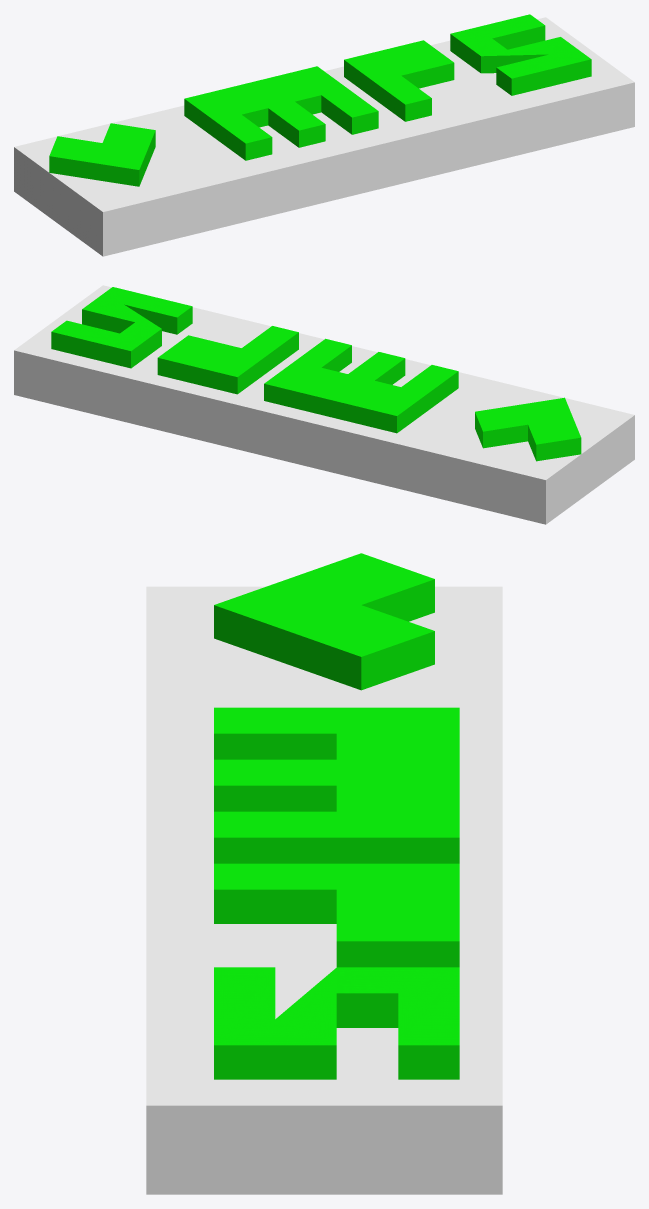
Rendered from finalmodelv2.glb.
The picture shows the model from 3 angles, top to bottom: view 1: azimuth 30°, elevation 25°; view 2: azimuth 150°, elevation 25°; view 3: azimuth 270°, elevation 25°; orthographic projection. The views are drawn at different scales.
Bounding box in the file's own units: 10 × 1.11 × 2.9.
